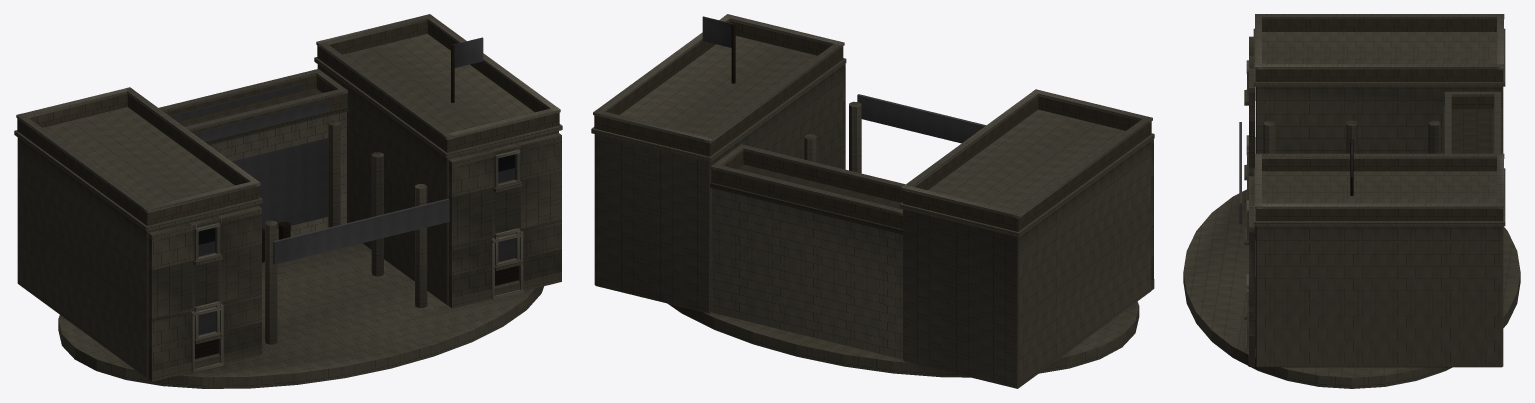
The model's file is scriptorium-israelite.glb.
3 views of the same model, side by side, from view 1: azimuth 30°, elevation 25°; view 2: azimuth 150°, elevation 25°; view 3: azimuth 270°, elevation 25° (orthographic). The views are drawn at different scales.
Visible parts, largest first — view 1: LOD0; view 2: LOD0; view 3: LOD0.
Boxes of the visible parts, x1,y1,x2,y2 form: LOD0: (14,14,562,388); LOD0: (591,14,1154,388); LOD0: (1183,14,1520,388).
Size of what is drawn, in the model's own units: 1.82 by 0.85 by 1.23.
Materials: 2 (2 with a texture image).
